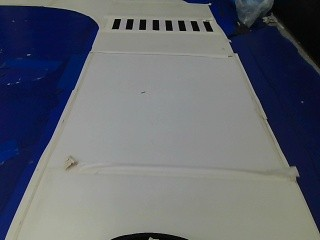crosswalk: (106, 15, 216, 33)
